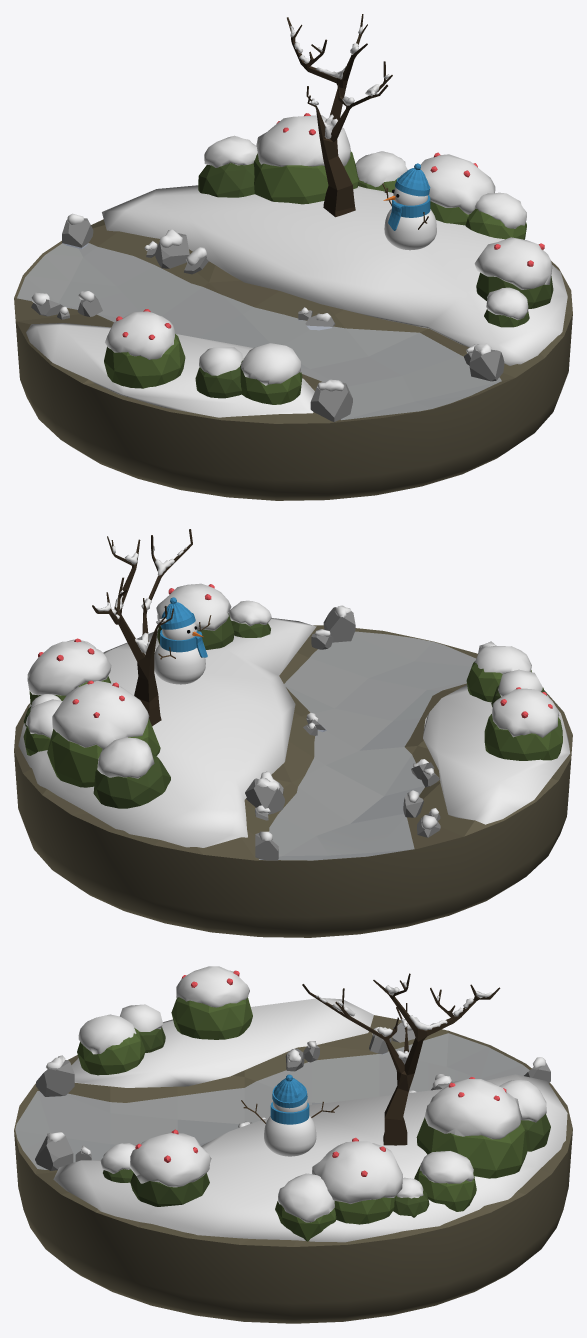
Rendered from WinterV3.glb.
3 renders of one model, top to bottom at view 1: azimuth 30°, elevation 25°; view 2: azimuth 150°, elevation 25°; view 3: azimuth 270°, elevation 25°, orthographic.
Visible parts, largest first — view 1: Ground-winter.001, SnowLeft, River_plane.001, SnowRight, Big tree.002, SnowOnBush.005, Bush2.004, SnowOnBush.007, SnowOnBush, Bush2.007, SnowOnBush1, SnowOnBush.002 (+19 smaller); view 2: Ground-winter.001, River_plane.001, SnowLeft, SnowRight, SnowOnBush.005, SnowOnBush.007, Big tree.002, SnowOnBush1, Bush2.004, Bush1.001, Bush2.007, SnowOnBush (+15 smaller); view 3: Ground-winter.001, SnowLeft, River_plane.001, SnowRight, SnowOnBush.005, SnowOnBush.007, Big tree.002, Bush2.004, SnowOnBush, Bush2.007, SnowOnBush1, SnowOnBush.006 (+20 smaller).
Part boxes in pixels (x1,y1,x2,y2): Ground-winter.001: [14, 219, 572, 500]; SnowLeft: [102, 185, 567, 365]; River_plane.001: [17, 243, 501, 419]; SnowRight: [26, 323, 314, 417]; Big tree.002: [287, 14, 392, 217]; SnowOnBush.005: [256, 115, 350, 166]; Bush2.004: [253, 151, 358, 204]; SnowOnBush.007: [420, 154, 495, 214]; SnowOnBush: [474, 237, 552, 289]; Bush2.007: [104, 334, 185, 388]; SnowOnBush1: [105, 311, 174, 359]; SnowOnBush.002: [241, 343, 300, 385]; Ground-winter.001: [14, 625, 572, 937]; River_plane.001: [259, 632, 475, 860]; SnowLeft: [18, 618, 316, 847]; SnowRight: [423, 685, 570, 824]; SnowOnBush.005: [52, 681, 149, 748]; SnowOnBush.007: [27, 641, 111, 695]; Big tree.002: [92, 529, 192, 726]; SnowOnBush1: [491, 688, 559, 737]; Bush2.004: [47, 718, 160, 787]; Bush1.001: [93, 753, 170, 808]; Bush2.007: [484, 714, 562, 760]; SnowOnBush: [156, 583, 231, 630]; Ground-winter.001: [14, 1015, 572, 1323]; SnowLeft: [53, 1074, 567, 1242]; River_plane.001: [15, 1033, 529, 1169]; SnowRight: [71, 998, 373, 1087]; SnowOnBush.005: [424, 1079, 522, 1139]; SnowOnBush.007: [312, 1141, 402, 1203]; Big tree.002: [302, 973, 500, 1145]; Bush2.004: [416, 1117, 527, 1178]; SnowOnBush: [130, 1133, 211, 1187]; Bush2.007: [171, 997, 252, 1039]; SnowOnBush1: [176, 966, 249, 1007]; SnowOnBush.006: [277, 1173, 334, 1222].
Bounding box in the file's own units: 2.17 × 1.34 × 2.17.
